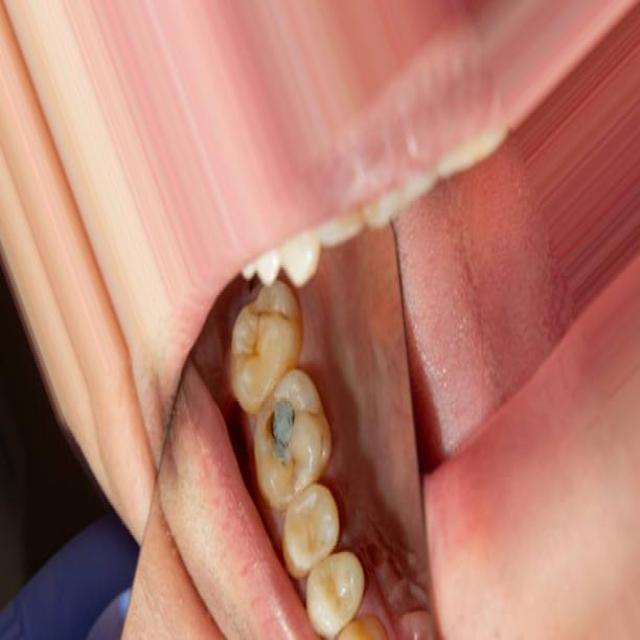caries: (249, 370, 328, 498)
